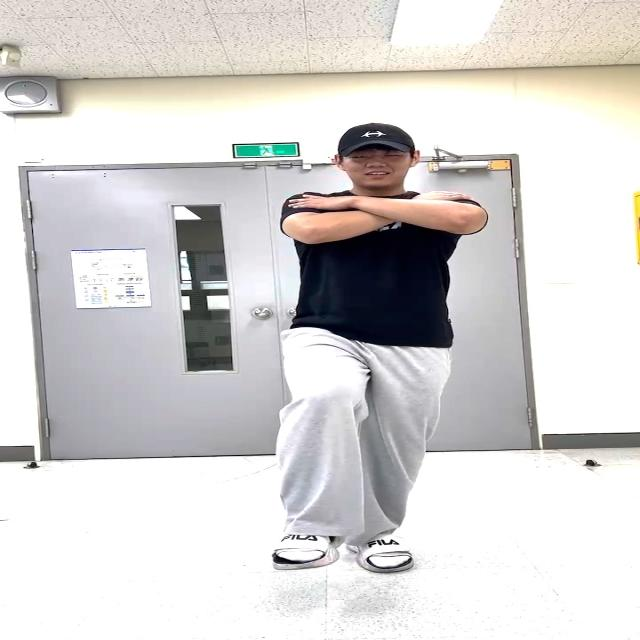leg: (269, 336, 363, 562)
